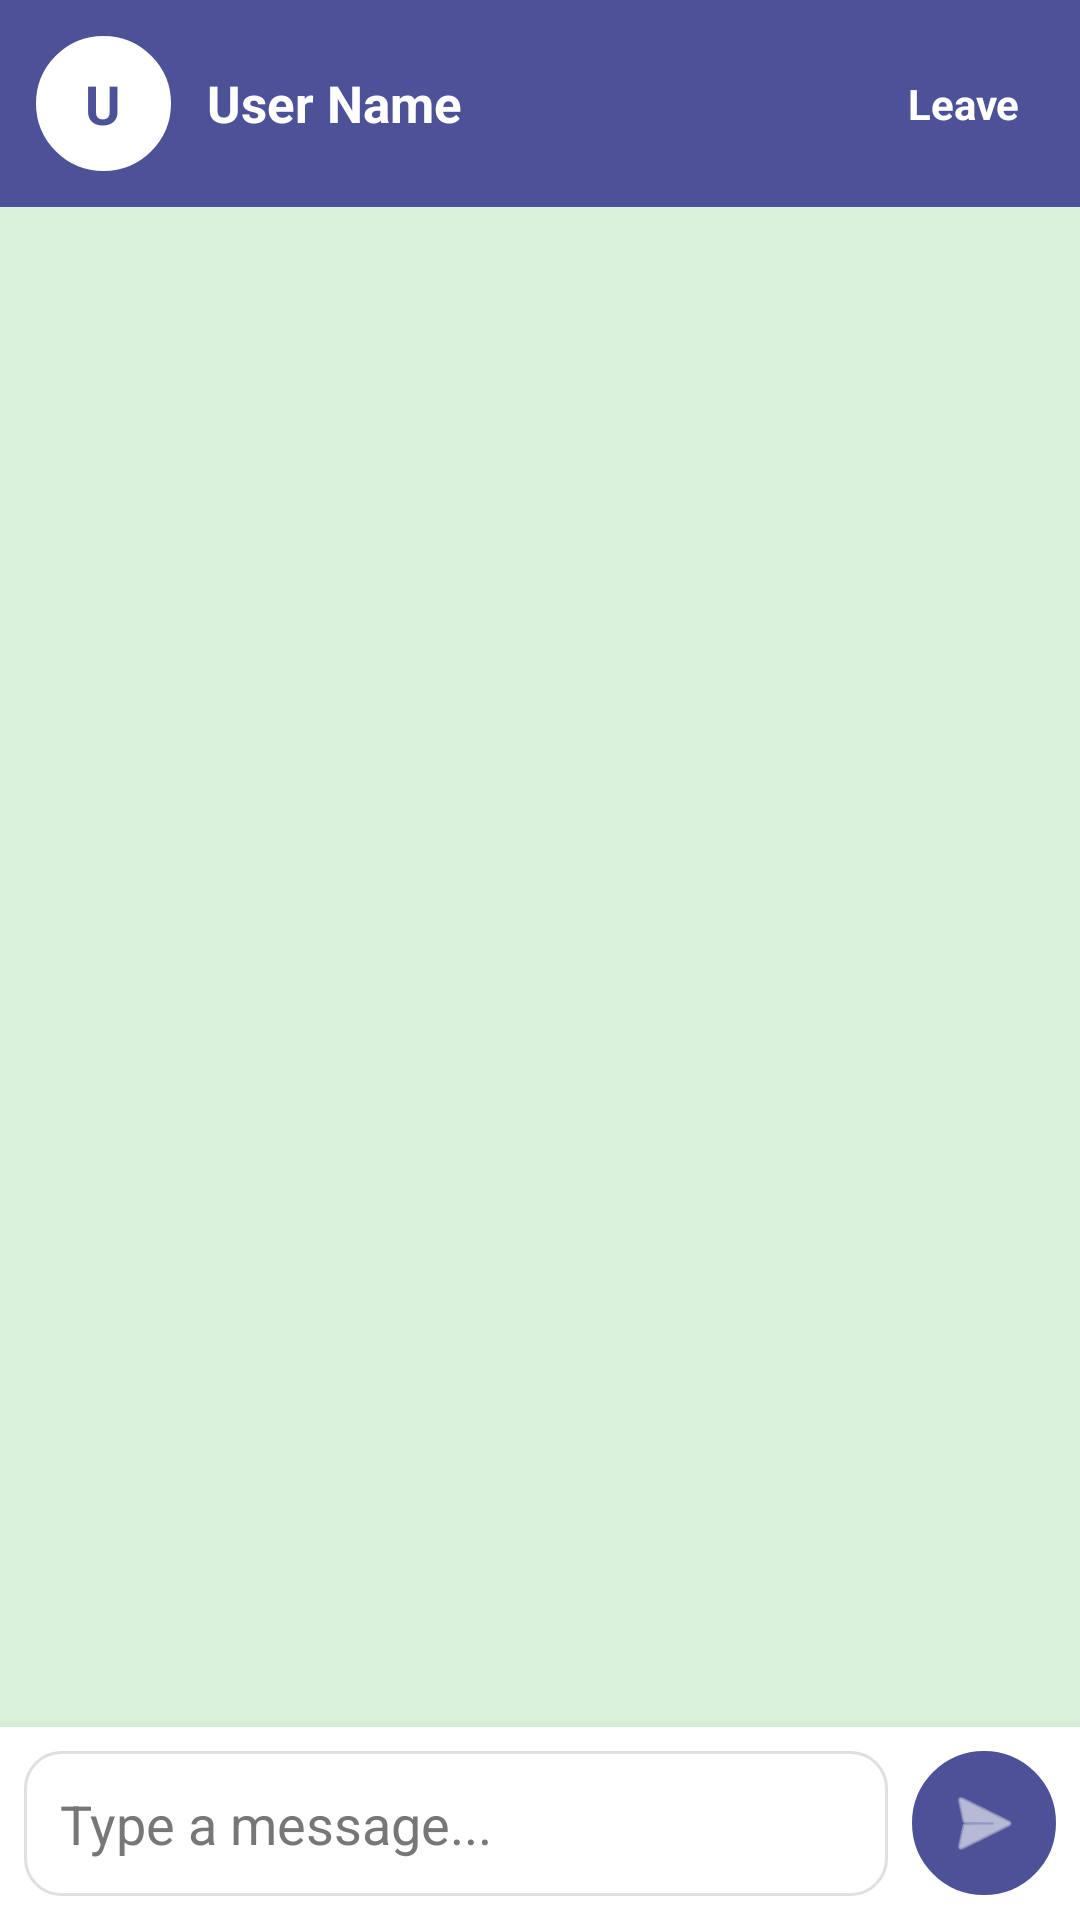

Named icons in this screenshot (1080×1920) and their centers, [x,y]:
Send Message: [984,1823]
